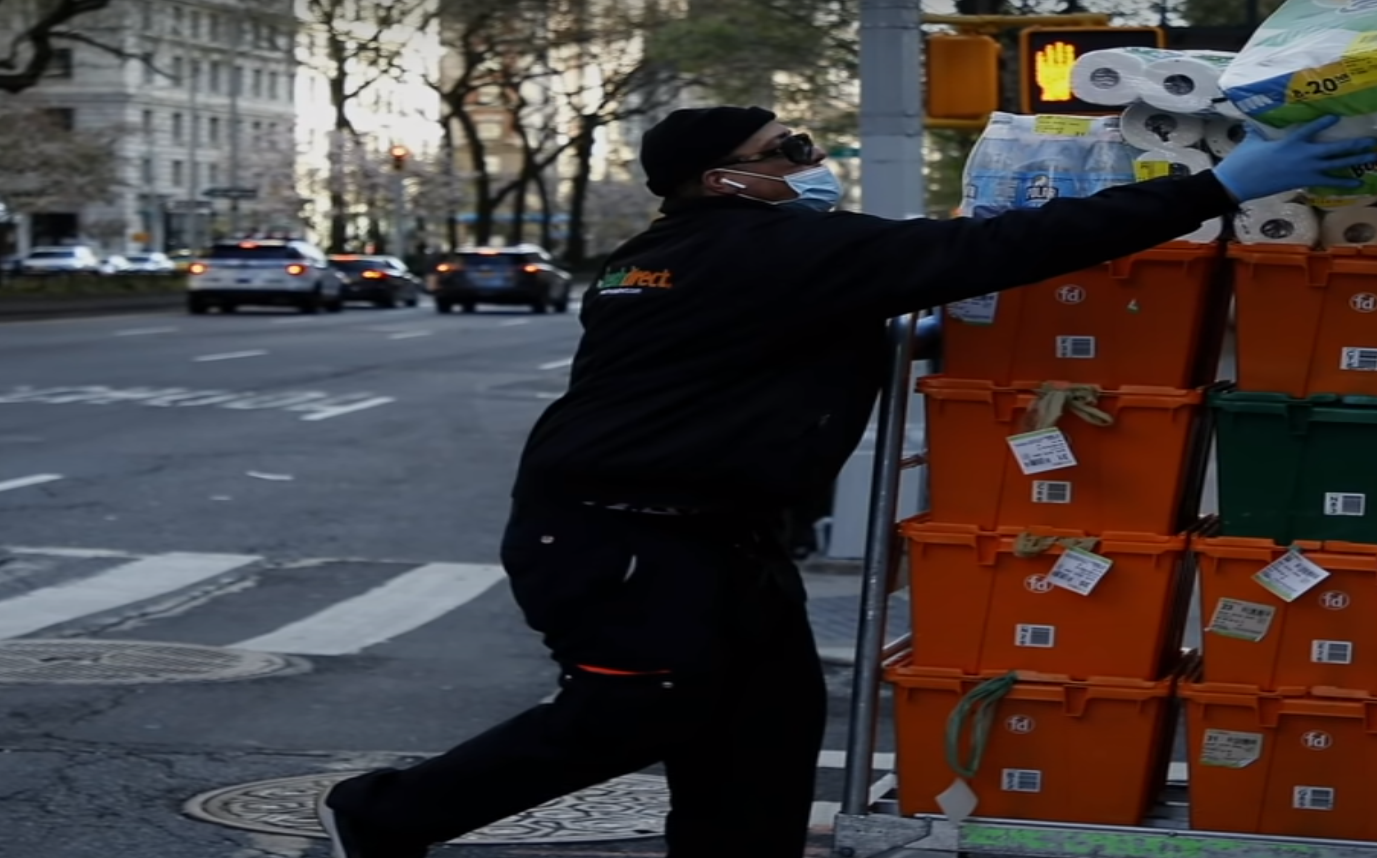mask_weared_incorrect: (643, 104, 844, 217)
